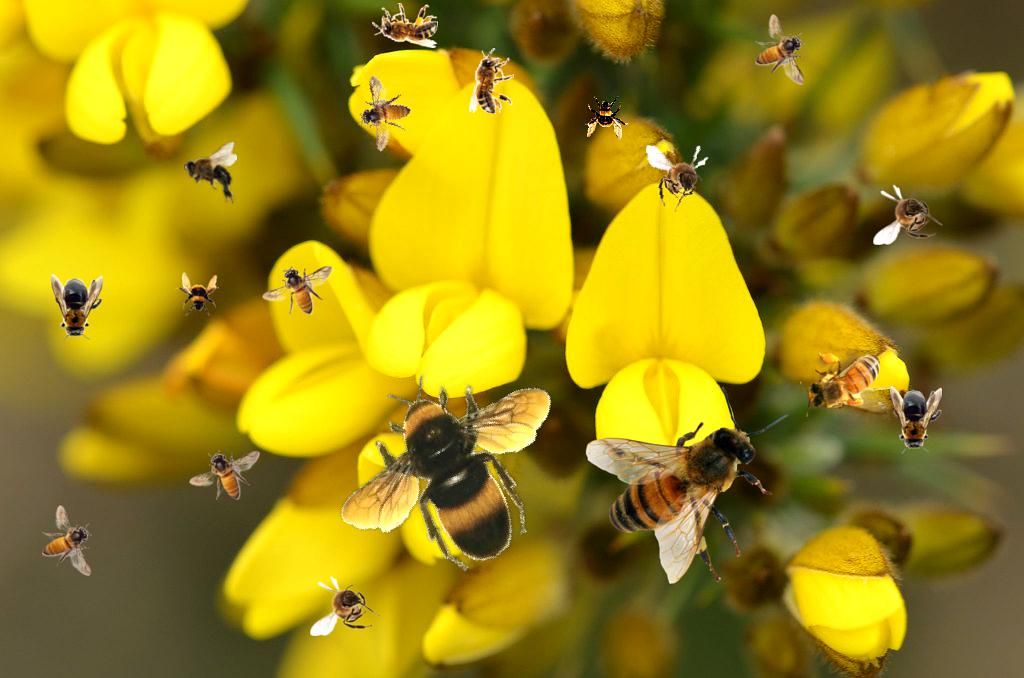Bee: (316, 319, 598, 608), (585, 385, 789, 584), (800, 349, 893, 417), (349, 74, 419, 157), (645, 137, 716, 215), (310, 575, 380, 636), (873, 184, 943, 245), (42, 505, 92, 576), (189, 450, 260, 500), (755, 14, 805, 85), (262, 265, 333, 315), (51, 274, 103, 342), (890, 386, 942, 454), (184, 142, 237, 204), (372, 3, 438, 48), (469, 48, 514, 114), (175, 272, 219, 316), (585, 96, 629, 140)
